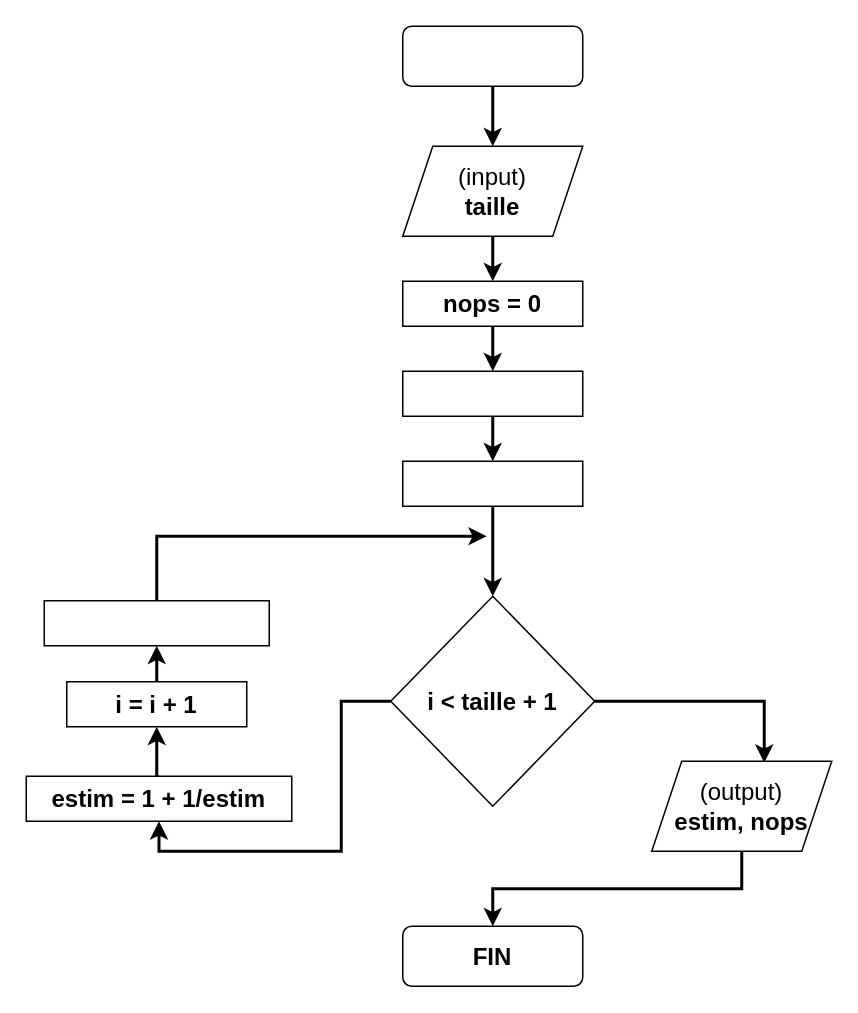
Some shapes in this 858 by 1013 pixel diagram are drawn without their labels. The shapes that lost their labels are listed below. From the top down, each one's centre as x and y in pixels, then its label:
At [492,55]: "DEBUT".
At [492,393]: "estim = 1".
At [492,483]: "i = 1".
At [156,622]: "nops = nops + 1".
